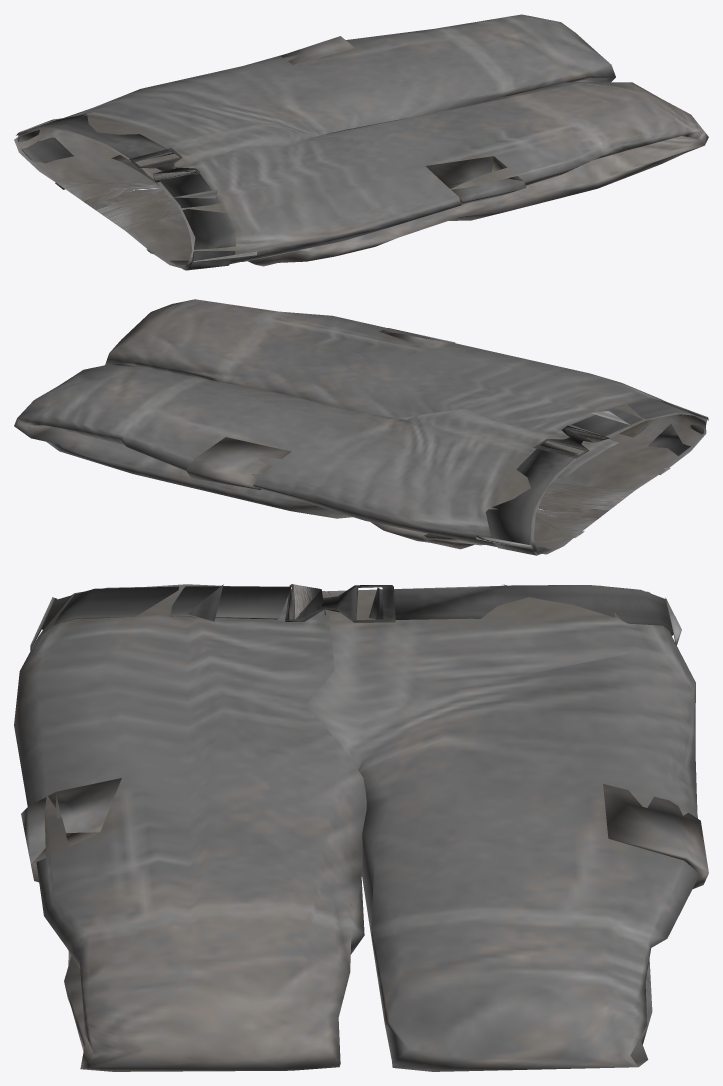
Rendered from GunRunnersPants_Ground.fbx.
The picture shows the model from 3 angles, top to bottom: view 1: azimuth 30°, elevation 25°; view 2: azimuth 150°, elevation 25°; view 3: azimuth 270°, elevation 25°; orthographic projection. The views are drawn at different scales.
Visible parts, largest first — view 1: Army_man_Untitled; view 2: Army_man_Untitled; view 3: Army_man_Untitled.
Part boxes in pixels (box(x1,y1,x2,y2)): Army_man_Untitled: box(14, 14, 708, 270); Army_man_Untitled: box(14, 299, 708, 555); Army_man_Untitled: box(14, 584, 708, 1071).
Size of the model in its own units: 0.3361 by 0.0444 by 0.2168.
